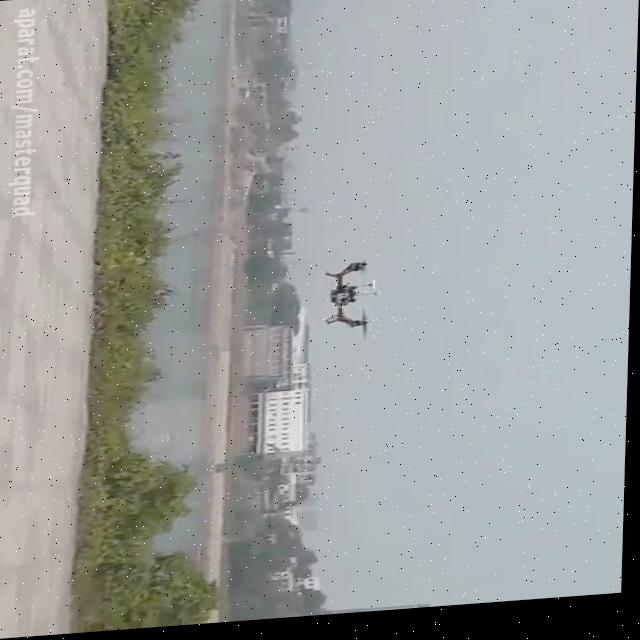drone: (322, 260, 386, 350)
